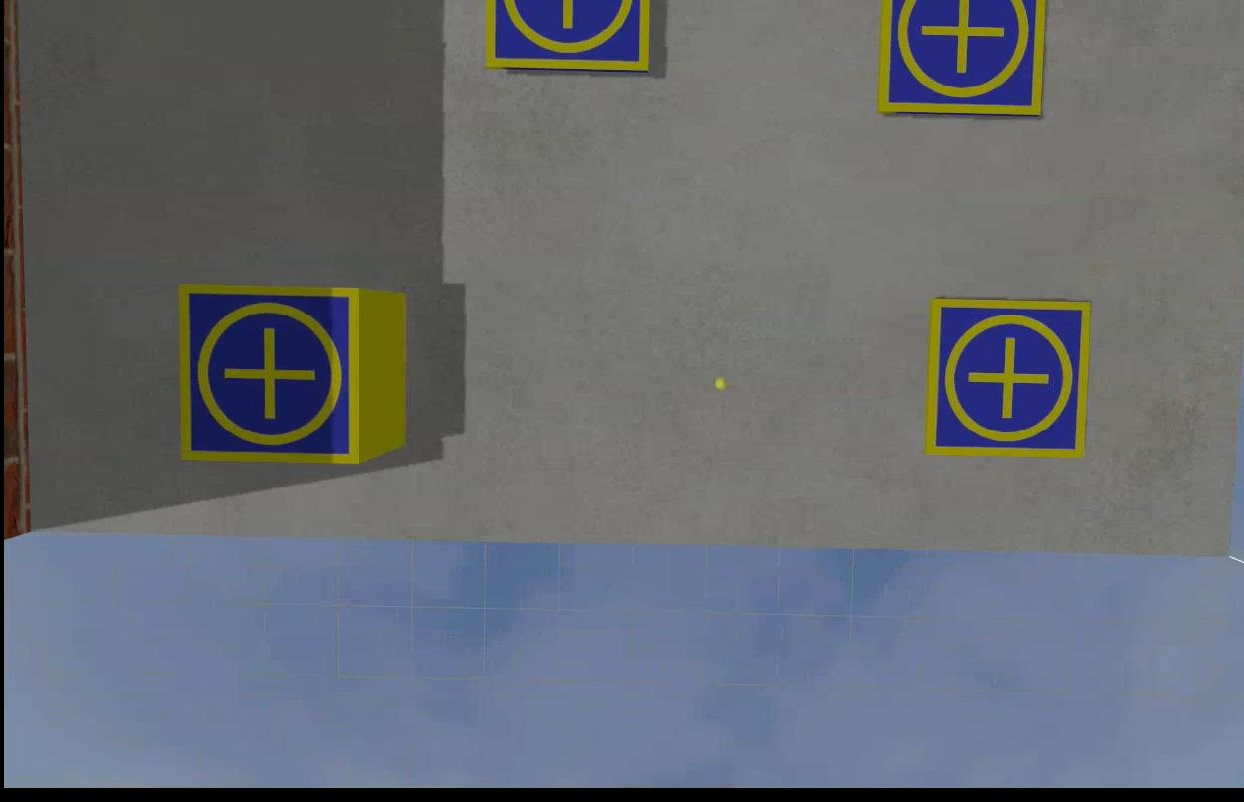small_base: (175, 283, 360, 469), (921, 297, 1092, 462), (874, 1, 1043, 119), (480, 1, 650, 70)
